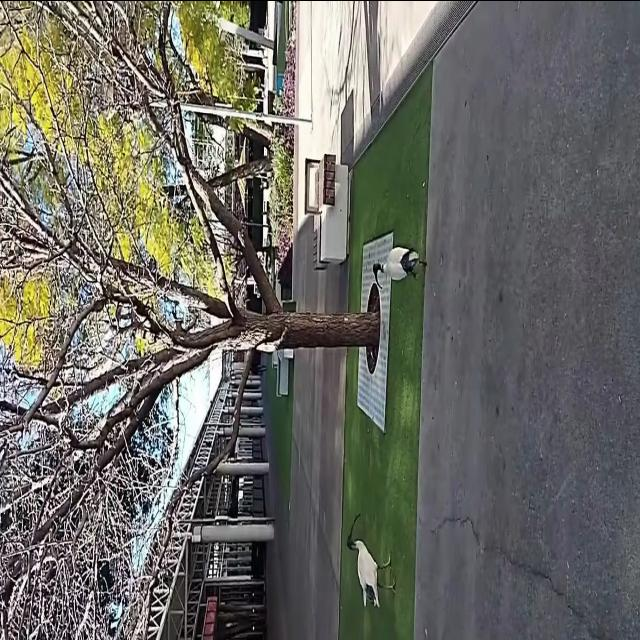Birds-Ibis: (341, 506, 398, 612), (369, 238, 431, 294)
